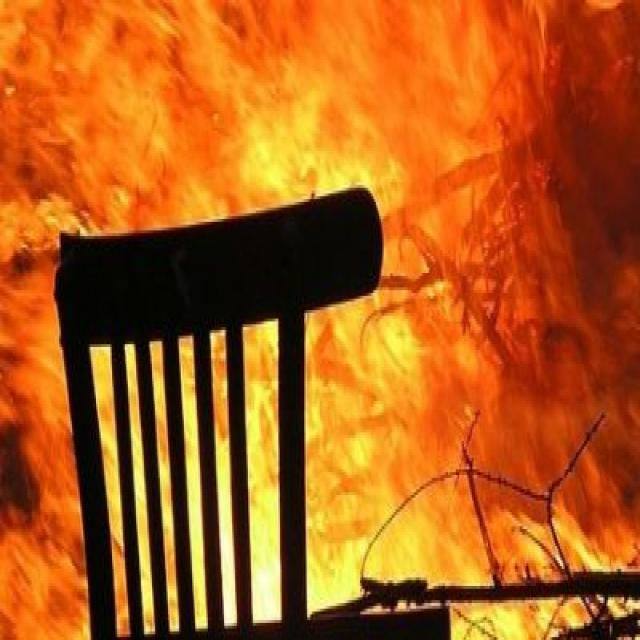Fire: (0, 0, 640, 600), (0, 250, 83, 637), (246, 347, 280, 580), (90, 347, 117, 486)
